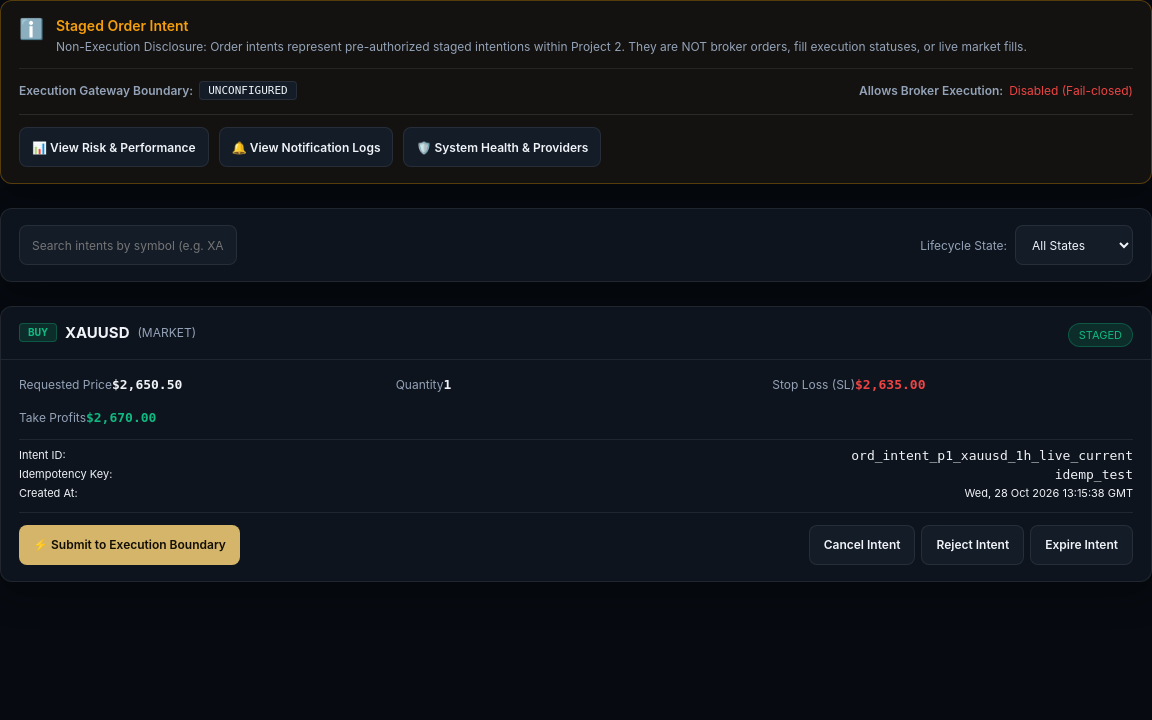
Test case: OrderIntentViewer component › filters order intents by symbol query
Type "NON_EXISTENT_SYMBOL" into the field with placeholder "Search intents by symbol (e.g. XAUUSD, EURUSD)...".
click(128, 245); type("NON_EXISTENT_SYMBOL")  # box [19,225,237,265]
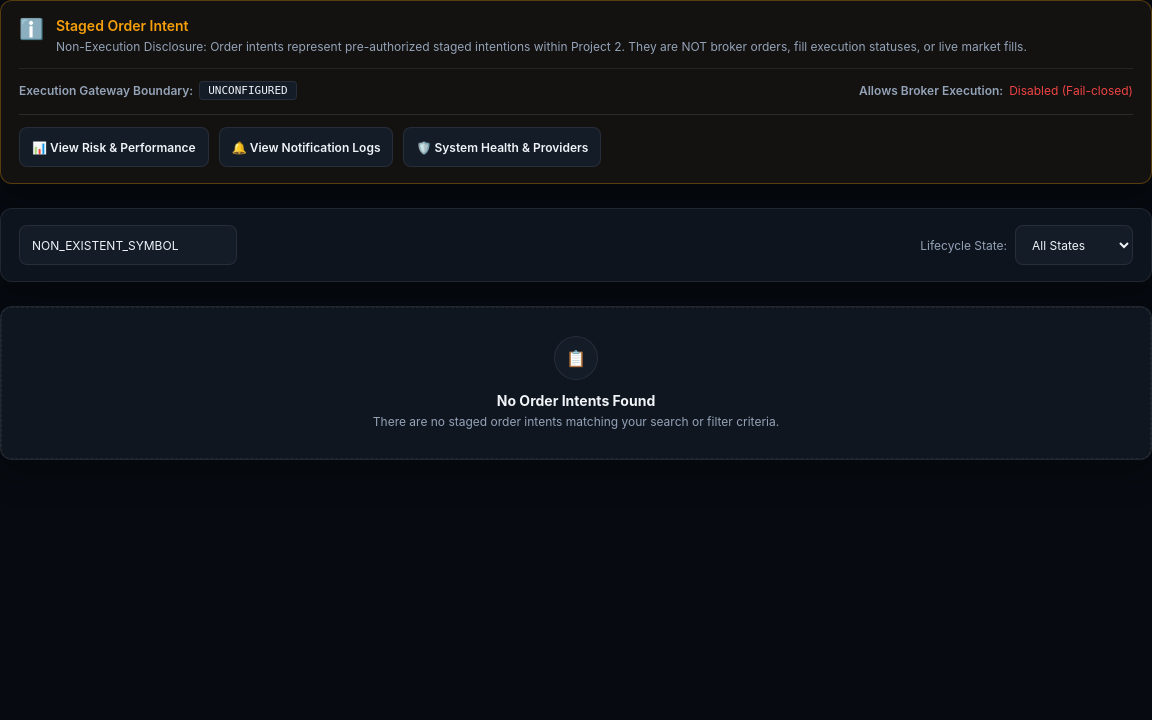
Expected: the heading "No Order Intents Found" is shown, [497,392,655,409]
